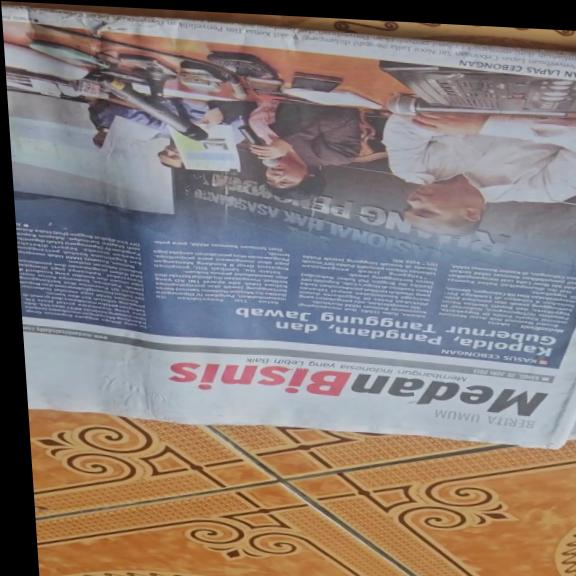Kertas: (9, 9, 576, 442)
